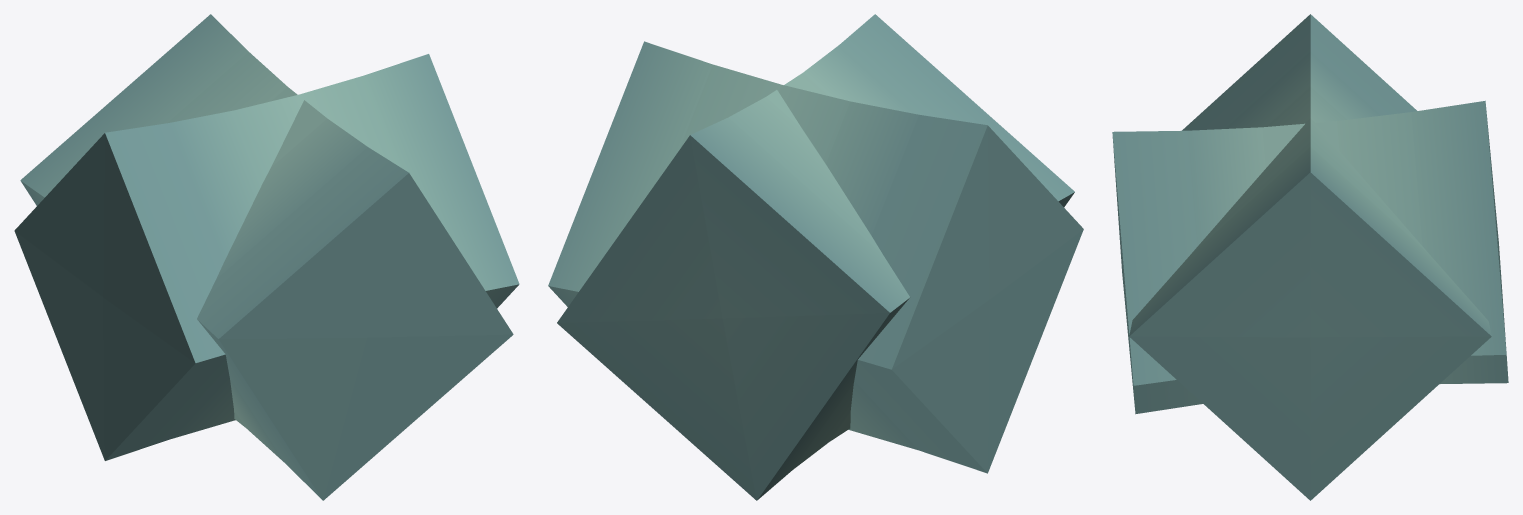
File: Parical-gree.gltf
3 views of the same model, side by side, from view 1: azimuth 30°, elevation 25°; view 2: azimuth 150°, elevation 25°; view 3: azimuth 270°, elevation 25° (orthographic). The views are drawn at different scales.
Visible parts, largest first — view 1: NewLayer1; view 2: NewLayer1; view 3: NewLayer1.
Boxes of the visible parts, box(x1,y1,x2,y2) form: NewLayer1: box(14, 14, 519, 500); NewLayer1: box(548, 14, 1083, 500); NewLayer1: box(1112, 14, 1508, 500).
Size of the model in its own units: 0.344 by 0.3453 by 0.3605.
